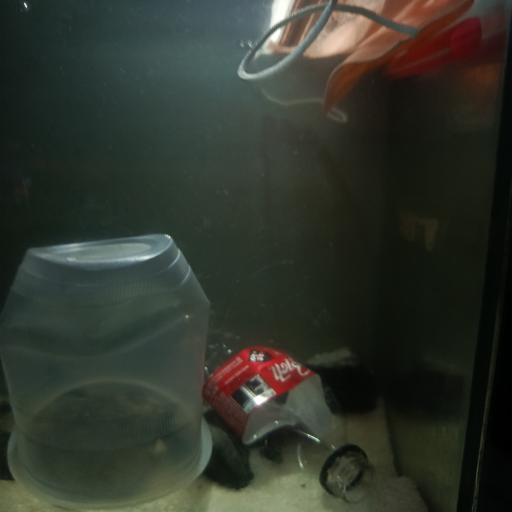mask: (237, 1, 470, 127)
plastic_bottle: (207, 324, 376, 503)
plastic_cup: (2, 234, 217, 503)
